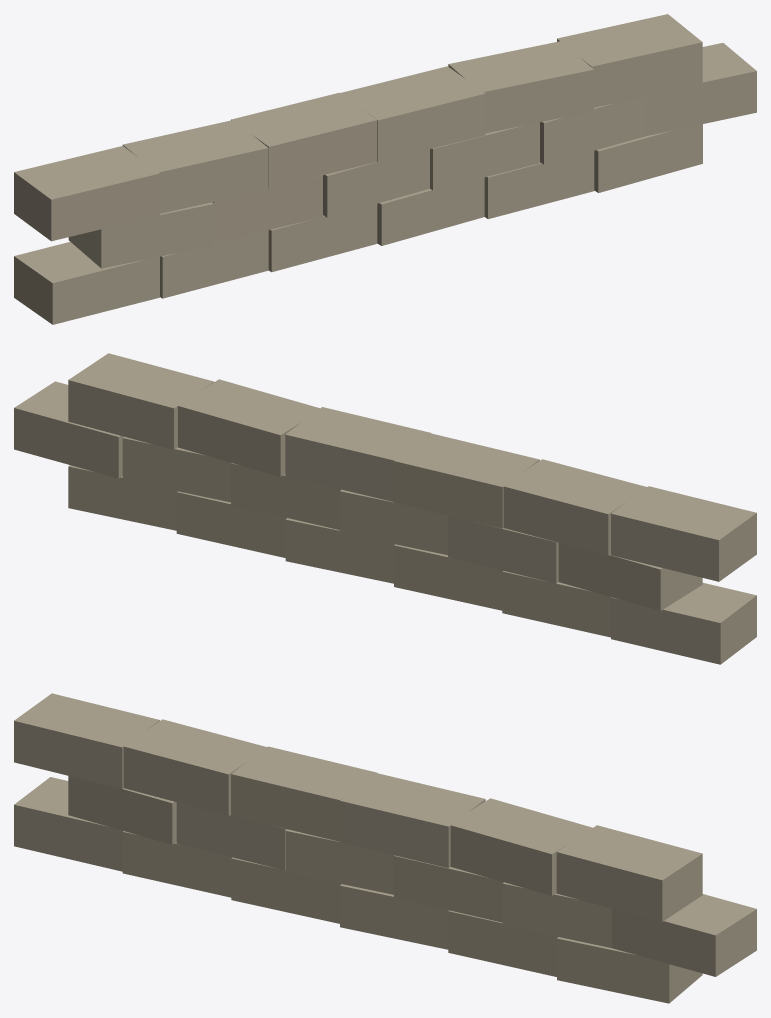
File: sandbags.glb
3 views of the same model, one above another, from view 1: azimuth 30°, elevation 25°; view 2: azimuth 150°, elevation 25°; view 3: azimuth 330°, elevation 25° (orthographic).
Parts seen in each view (by area): view 1: sandbags; view 2: sandbags; view 3: sandbags.
Part boxes in pixels (left/top/right/bottom): sandbags: left=14, top=14, right=756, bottom=324; sandbags: left=14, top=353, right=756, bottom=664; sandbags: left=14, top=693, right=756, bottom=1003.
Size of the model in its own units: 3.91 by 0.6597 by 0.4027.
